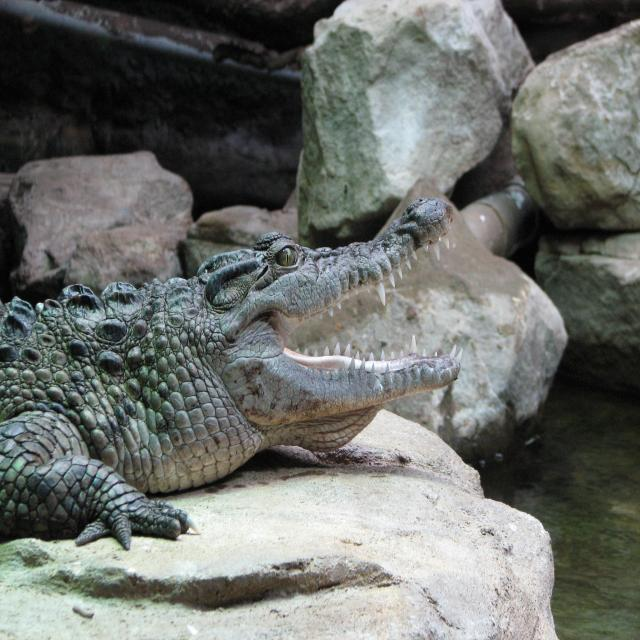crocodile: (0, 145, 523, 609)
